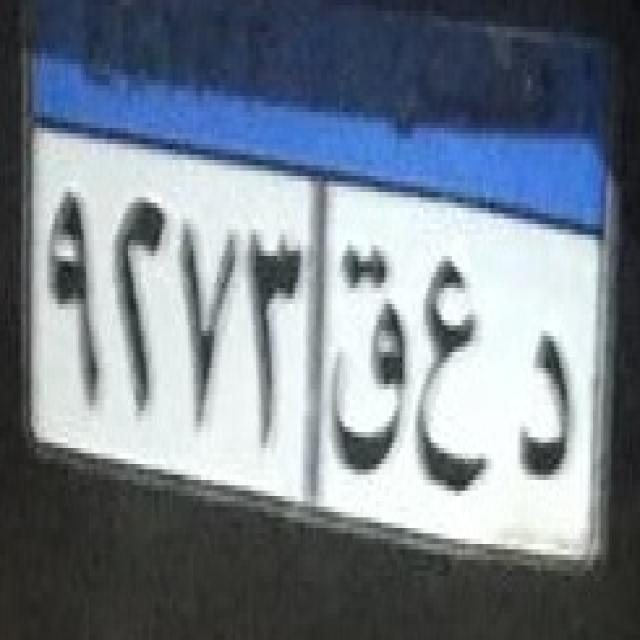2: (106, 182, 172, 418)
3: (244, 223, 304, 454)
7: (172, 213, 242, 428)
9: (38, 182, 106, 412)
Een: (410, 245, 498, 507)
Taa: (330, 234, 410, 469)
daal: (511, 316, 585, 486)
